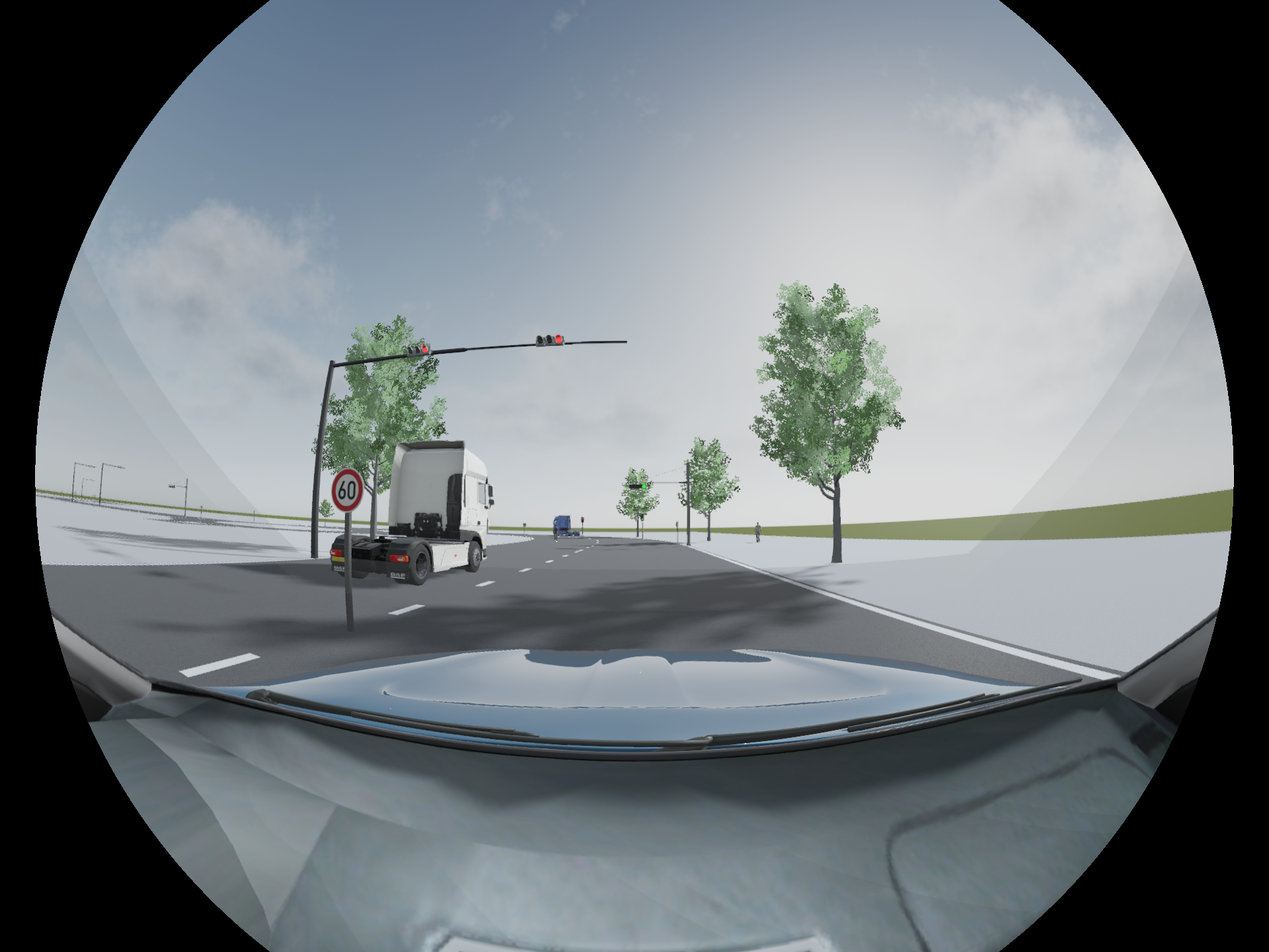Green Light: (627, 483, 646, 491)
Red Light: (535, 334, 565, 348), (407, 346, 430, 355)
Speed Limit 60: (332, 468, 364, 512)
